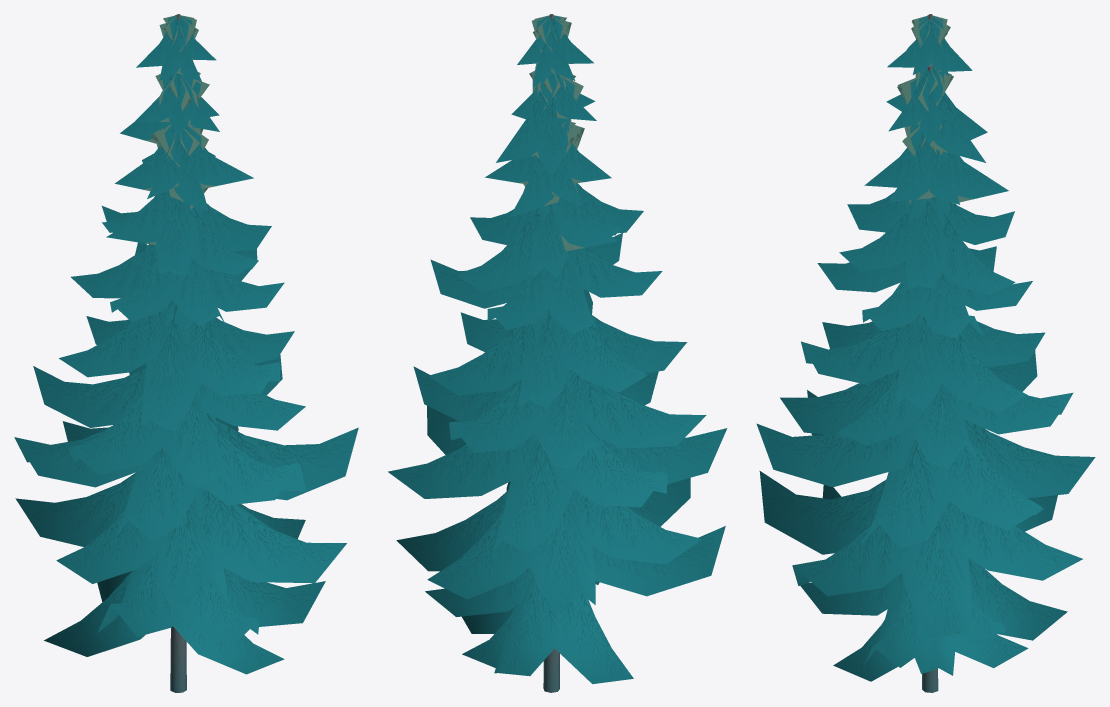
3 renders of one model, left to right at view 1: azimuth 30°, elevation 25°; view 2: azimuth 150°, elevation 25°; view 3: azimuth 270°, elevation 25°, orthographic.
Visible parts, largest first — view 1: submesh_1, submesh_0; view 2: submesh_1, submesh_0; view 3: submesh_1.
Boxes of the visible parts, x1=… form: submesh_1: x1=14, y1=15, x2=358, y2=674; submesh_0: x1=170, y1=14, x2=186, y2=692; submesh_1: x1=388, y1=15, x2=727, y2=684; submesh_0: x1=543, y1=14, x2=559, y2=692; submesh_1: x1=756, y1=15, x2=1095, y2=681.
Bounding box in the file's own units: 3.96 × 8.72 × 3.97.
2 materials, 2 textured.
